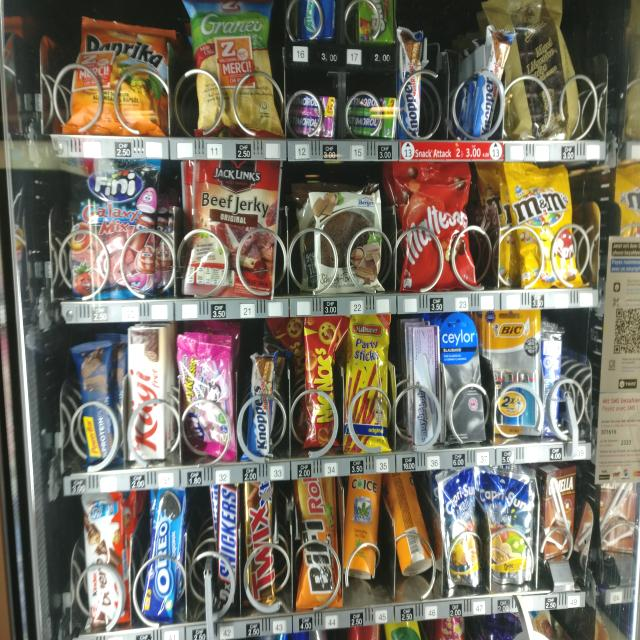bifi_roll__50__4251097402635: (295, 472, 343, 607)
bueno___43__4008400320328: (79, 490, 129, 623)
c-swiss_dosenabisicetea__33__9120025930135: (384, 470, 435, 580), (344, 471, 384, 583)
caprisun_multivitamin__20__4000177605004: (482, 468, 532, 584), (438, 469, 482, 588)
comella_schokodrink__33__7613100037253: (540, 460, 581, 563)
fini_galaxymix_packung_100_1_8410525150364: (69, 160, 163, 294)
fini_jellykisses_packung_80_1_8410525116704: (176, 335, 236, 464)
jacklinks_beefjerkyorginal__25__4047751730219: (186, 156, 280, 294)
jlbrichard_gauffre__90__5410495002000: (506, 1, 580, 134)
kagi___50__7610046000259: (125, 327, 168, 460)
knoppers_riegel____4035800488808: (475, 24, 509, 146), (246, 350, 277, 462), (395, 27, 423, 138)
lorenz_nicnacs__40__4018077798818: (301, 312, 344, 453)
malburner_partysticks__40__7610200279682: (344, 311, 393, 452)
maltesers___100__5000159023061: (392, 160, 479, 288)
mnms_gelb__45__40111445: (504, 158, 584, 287)
oreo___66__84100733: (137, 485, 186, 614)
powerbar_proteinplusschoko__55__4029679520028: (74, 336, 122, 467)
snickers___50__5000159461122: (213, 482, 240, 617)
stimorol_spearmint_riegel_14_1_0000000000005: (346, 89, 394, 140)
stimorol_wildcherry_riegel_14_1_57060330: (288, 91, 334, 137)
twix___50__5000159459228: (242, 480, 278, 610)
zweifel_graneochilli__100__7610095184009: (185, 0, 284, 136)
zweifel_paprika__90__7610095013002: (64, 11, 169, 131)
